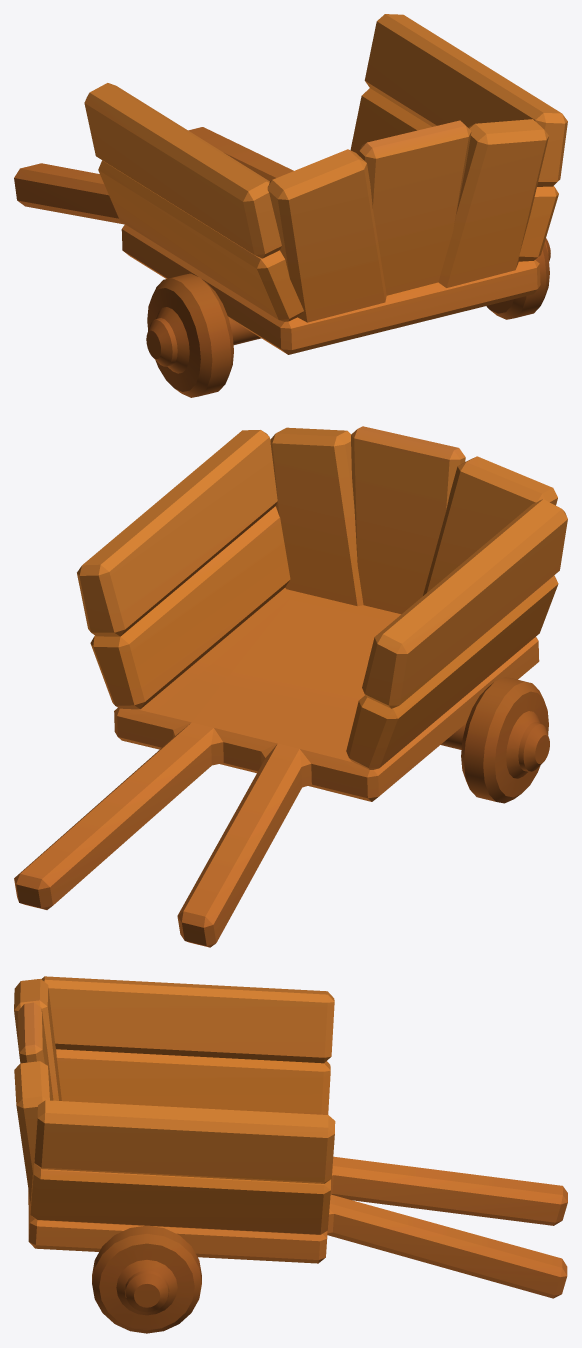
File: oncoming-village-39.glb
3 views of the same model, one above another, from view 1: azimuth 30°, elevation 25°; view 2: azimuth 150°, elevation 25°; view 3: azimuth 270°, elevation 25° (orthographic). The views are drawn at different scales.
Visible parts, largest first — view 1: piece; view 2: piece; view 3: piece.
Boxes of the visible parts, box(x1,y1,x2,y2) form: piece: box(14, 14, 567, 397); piece: box(14, 426, 567, 947); piece: box(14, 976, 567, 1333).
Size of the model in its own units: 1.24 by 0.8111 by 1.7.
Materials: 1 (1 with a texture image).
